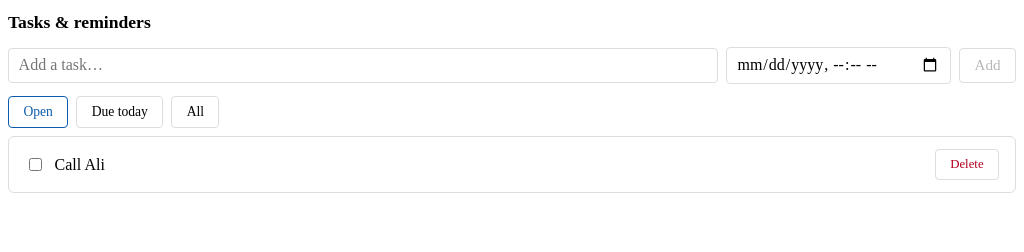
TasksPanel › deletes a task, restoring it if the request fails
Expected: the text "Call Ali" is shown, 55,156 -> 105,173
Click the button with aria-label "Delete Call Ali": {"x": 967, "y": 165} 935,149 -> 999,180
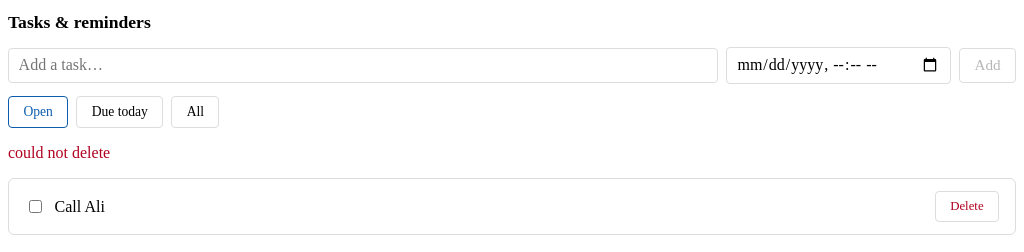
Expected: the text "Call Ali" is shown, 55,198 -> 105,215
Expected: the message reads "could not delete", 8,144 -> 110,161
